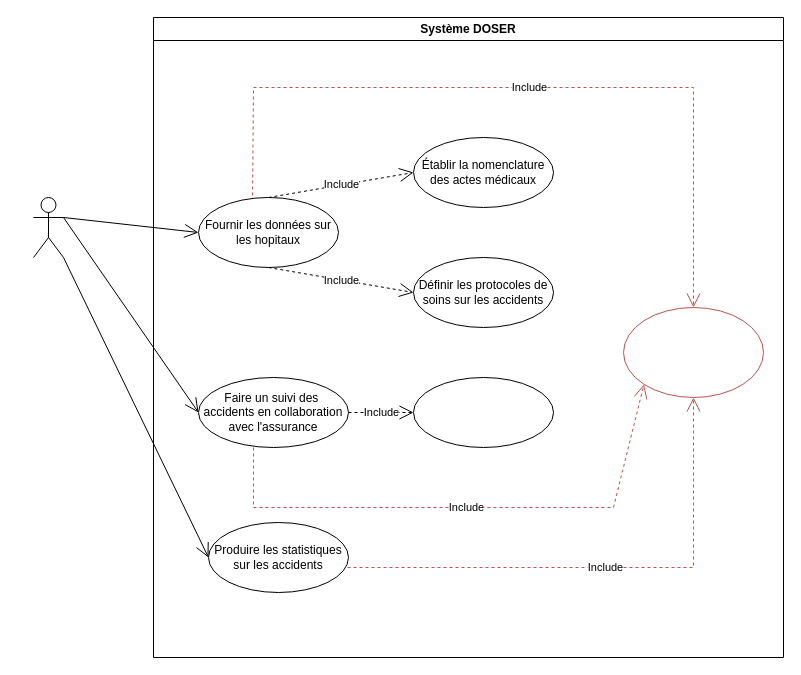
This 801x675 diagram has some shape labels left out. Here are the shapes that lost their labels. From the top down, the centre of each, then its label:
At (x=48, y=227): "MINSANTE".
At (x=693, y=352): "Authentification".
At (x=483, y=412): "Assurer le suivi de toutes les victimes".
